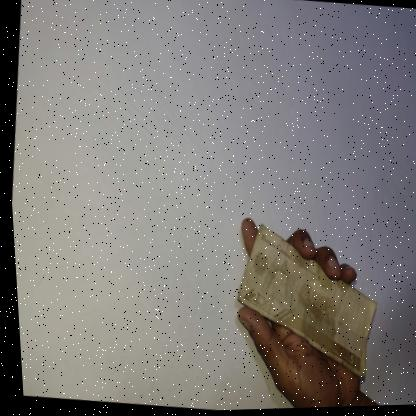five-back-vef: (222, 219, 383, 388)
